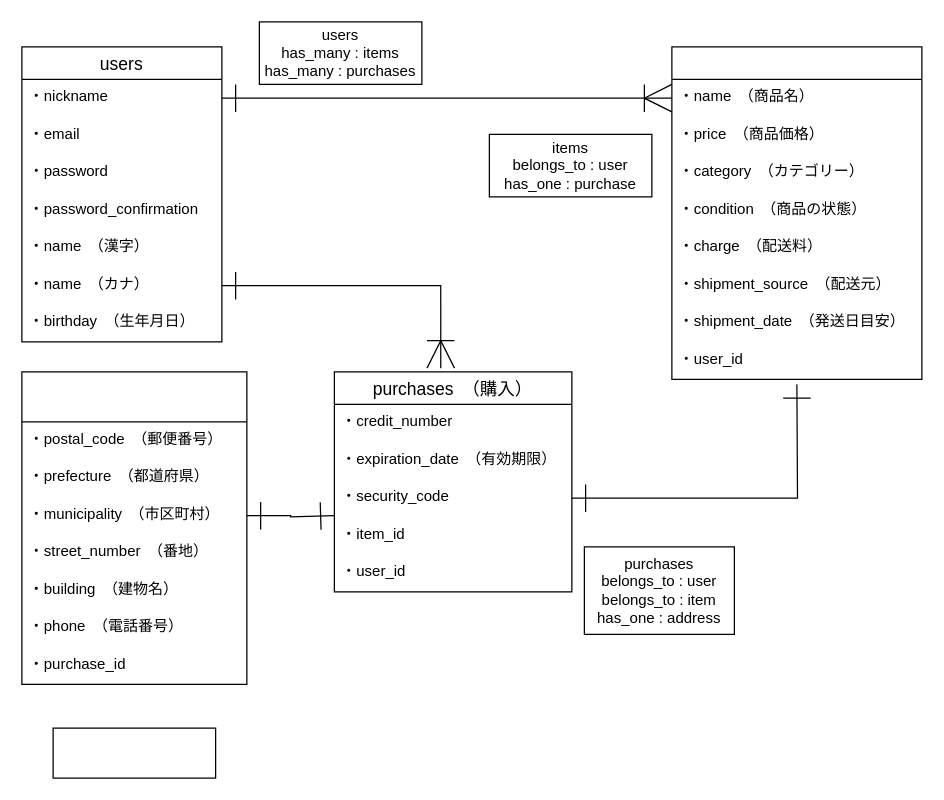
Some shapes in this 944 by 800 pixel diagram are drawn without their labels. Each missing label, with the box of its shape:
addresses belongs_to : purchase: (52, 727, 216, 778)
addresses （配送先）: (21, 371, 247, 684)
items: (671, 46, 922, 379)
